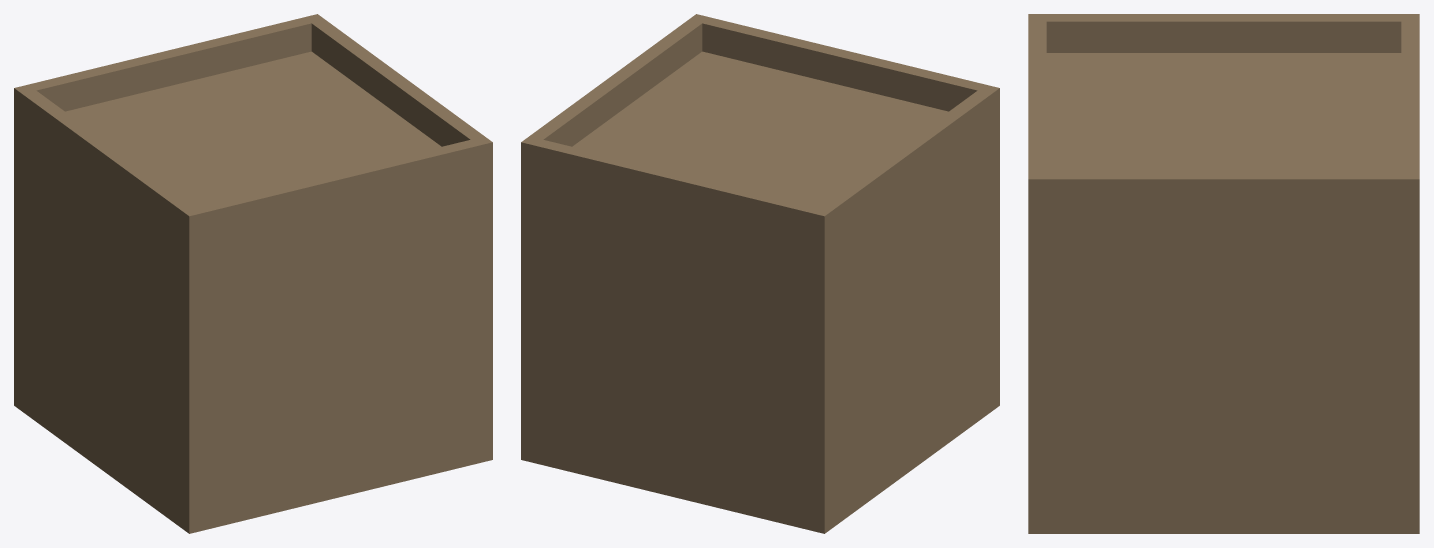
File: Produce Shelf.glb
3 renders of one model, left to right at view 1: azimuth 30°, elevation 25°; view 2: azimuth 150°, elevation 25°; view 3: azimuth 270°, elevation 25°, orthographic. The views are drawn at different scales.
Parts seen in each view (by area): view 1: Cube; view 2: Cube; view 3: Cube.
Boxes of the visible parts, x1,y1,x2,y2 form: Cube: (14, 14, 492, 533); Cube: (521, 14, 999, 533); Cube: (1028, 14, 1419, 533).
Size of the model in its own units: 3.37 by 3.37 by 3.37.
